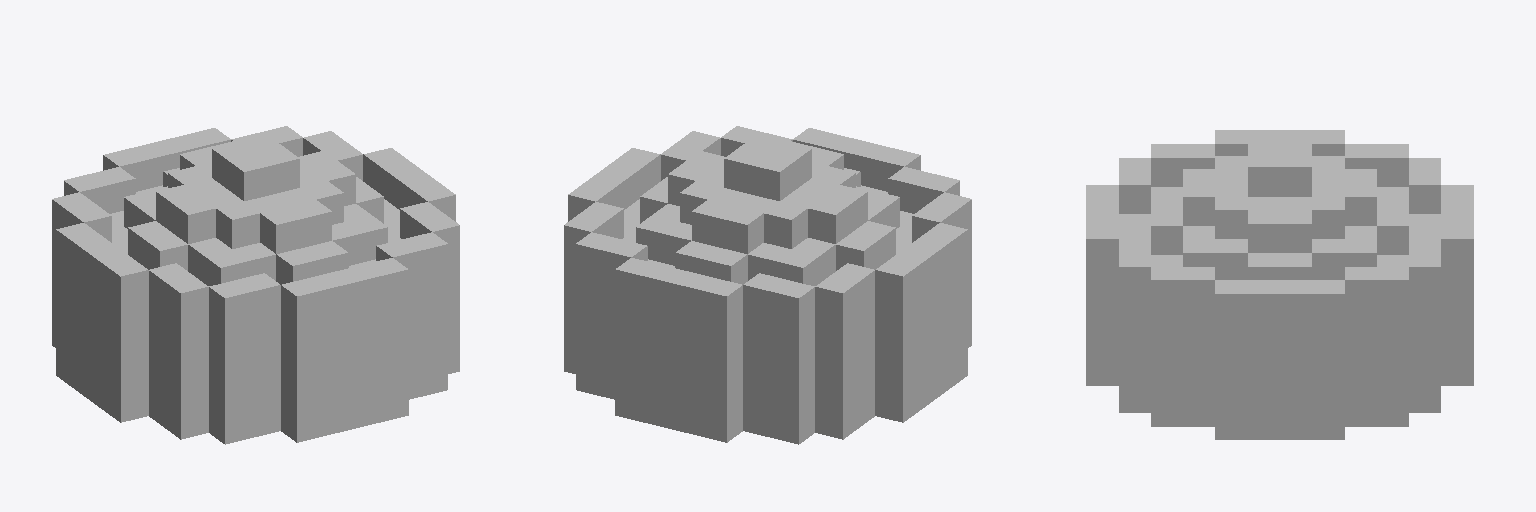
File: cooking_cake_pan_fill_cake.obj
3 renders of one model, left to right at view 1: azimuth 30°, elevation 25°; view 2: azimuth 150°, elevation 25°; view 3: azimuth 270°, elevation 25°, orthographic.
Parts seen in each view (by area): view 1: node_0_0_0, node_0_0_0.003; view 2: node_0_0_0, node_0_0_0.003; view 3: node_0_0_0, node_0_0_0.003.
Boxes of the visible parts, x1,y1,x2,y2 form: node_0_0_0: [52, 126, 459, 444]; node_0_0_0.003: [110, 135, 401, 285]; node_0_0_0: [564, 126, 971, 444]; node_0_0_0.003: [622, 135, 913, 285]; node_0_0_0: [1086, 130, 1473, 439]; node_0_0_0.003: [1119, 140, 1440, 279].
Size of the model in its own units: 0.75 by 0.4375 by 0.75.